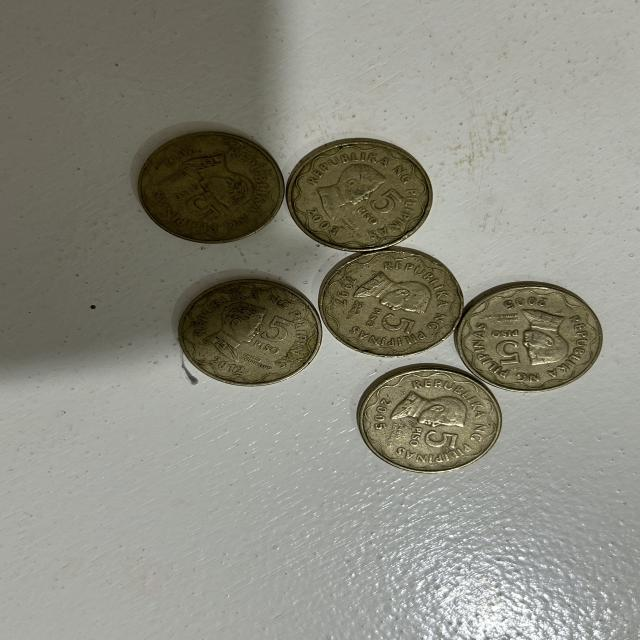5_Old_Front: (351, 304, 421, 350), (246, 311, 306, 362), (169, 181, 231, 230), (356, 188, 422, 230), (403, 425, 464, 462), (487, 324, 534, 368)
